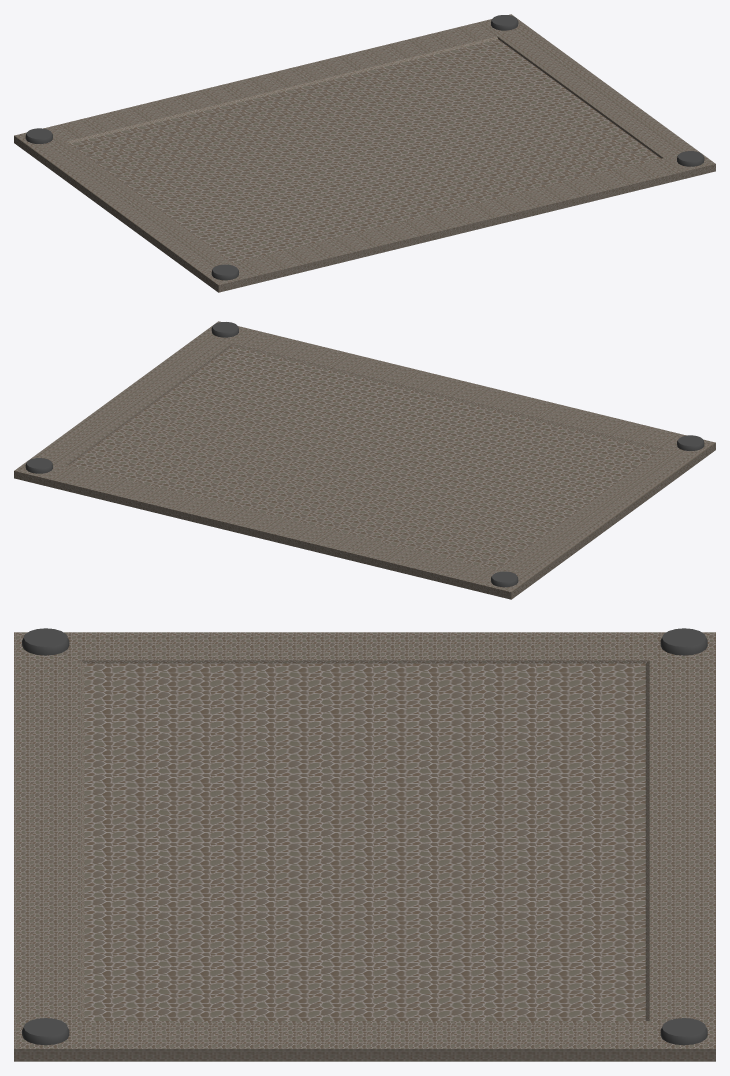
The model's file is 加速器.fbx.
The picture shows the model from 3 angles, top to bottom: view 1: azimuth 30°, elevation 25°; view 2: azimuth 150°, elevation 25°; view 3: azimuth 270°, elevation 25°; orthographic projection. The views are drawn at different scales.
Parts seen in each view (by area): view 1: 本體; view 2: 本體; view 3: 本體, 螺絲3, 螺絲4, 螺絲1, 螺絲2.
Part boxes in pixels (x1,y1,x2,y2): 本體: (14, 14, 715, 292); 本體: (14, 321, 715, 599); 本體: (14, 632, 715, 1061); 螺絲3: (22, 628, 69, 655); 螺絲4: (660, 628, 707, 655); 螺絲1: (22, 1018, 69, 1045); 螺絲2: (660, 1018, 707, 1045).
Bounding box in the file's own units: 8.34 × 0.195 × 5.94.
Materials: 2 (1 with a texture image).
